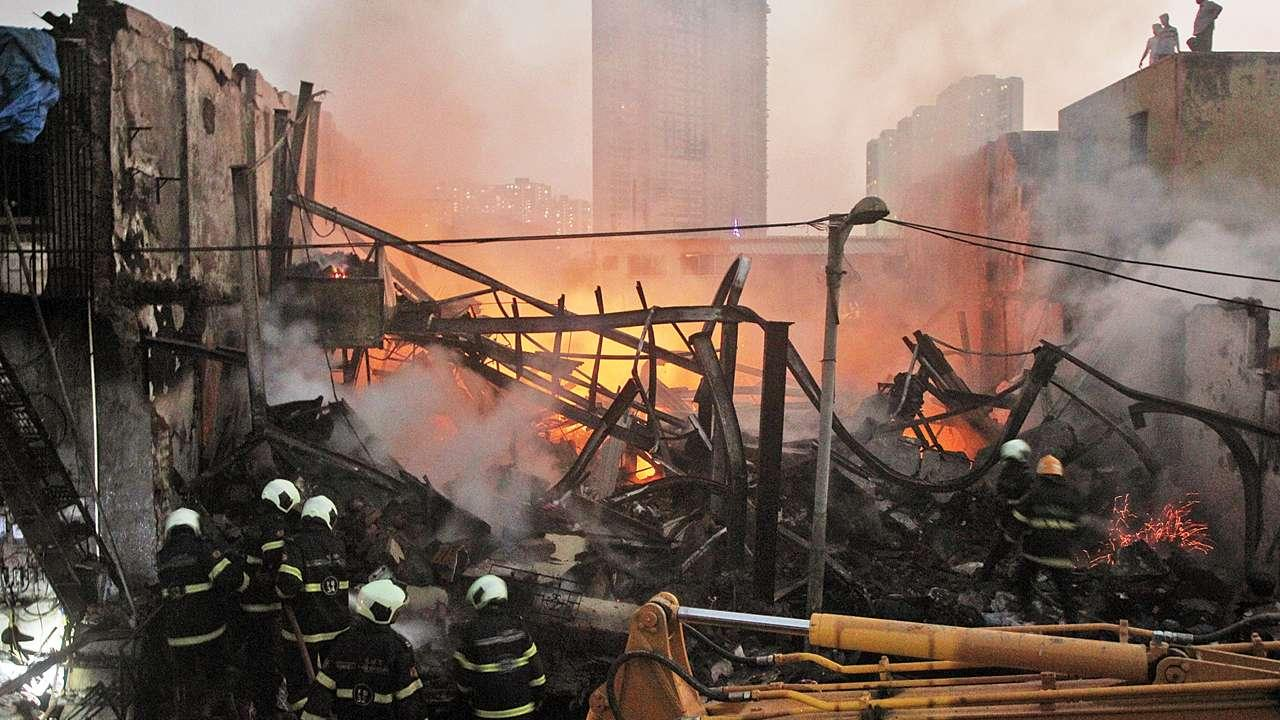Fire: (442, 284, 689, 402), (608, 426, 682, 505)
